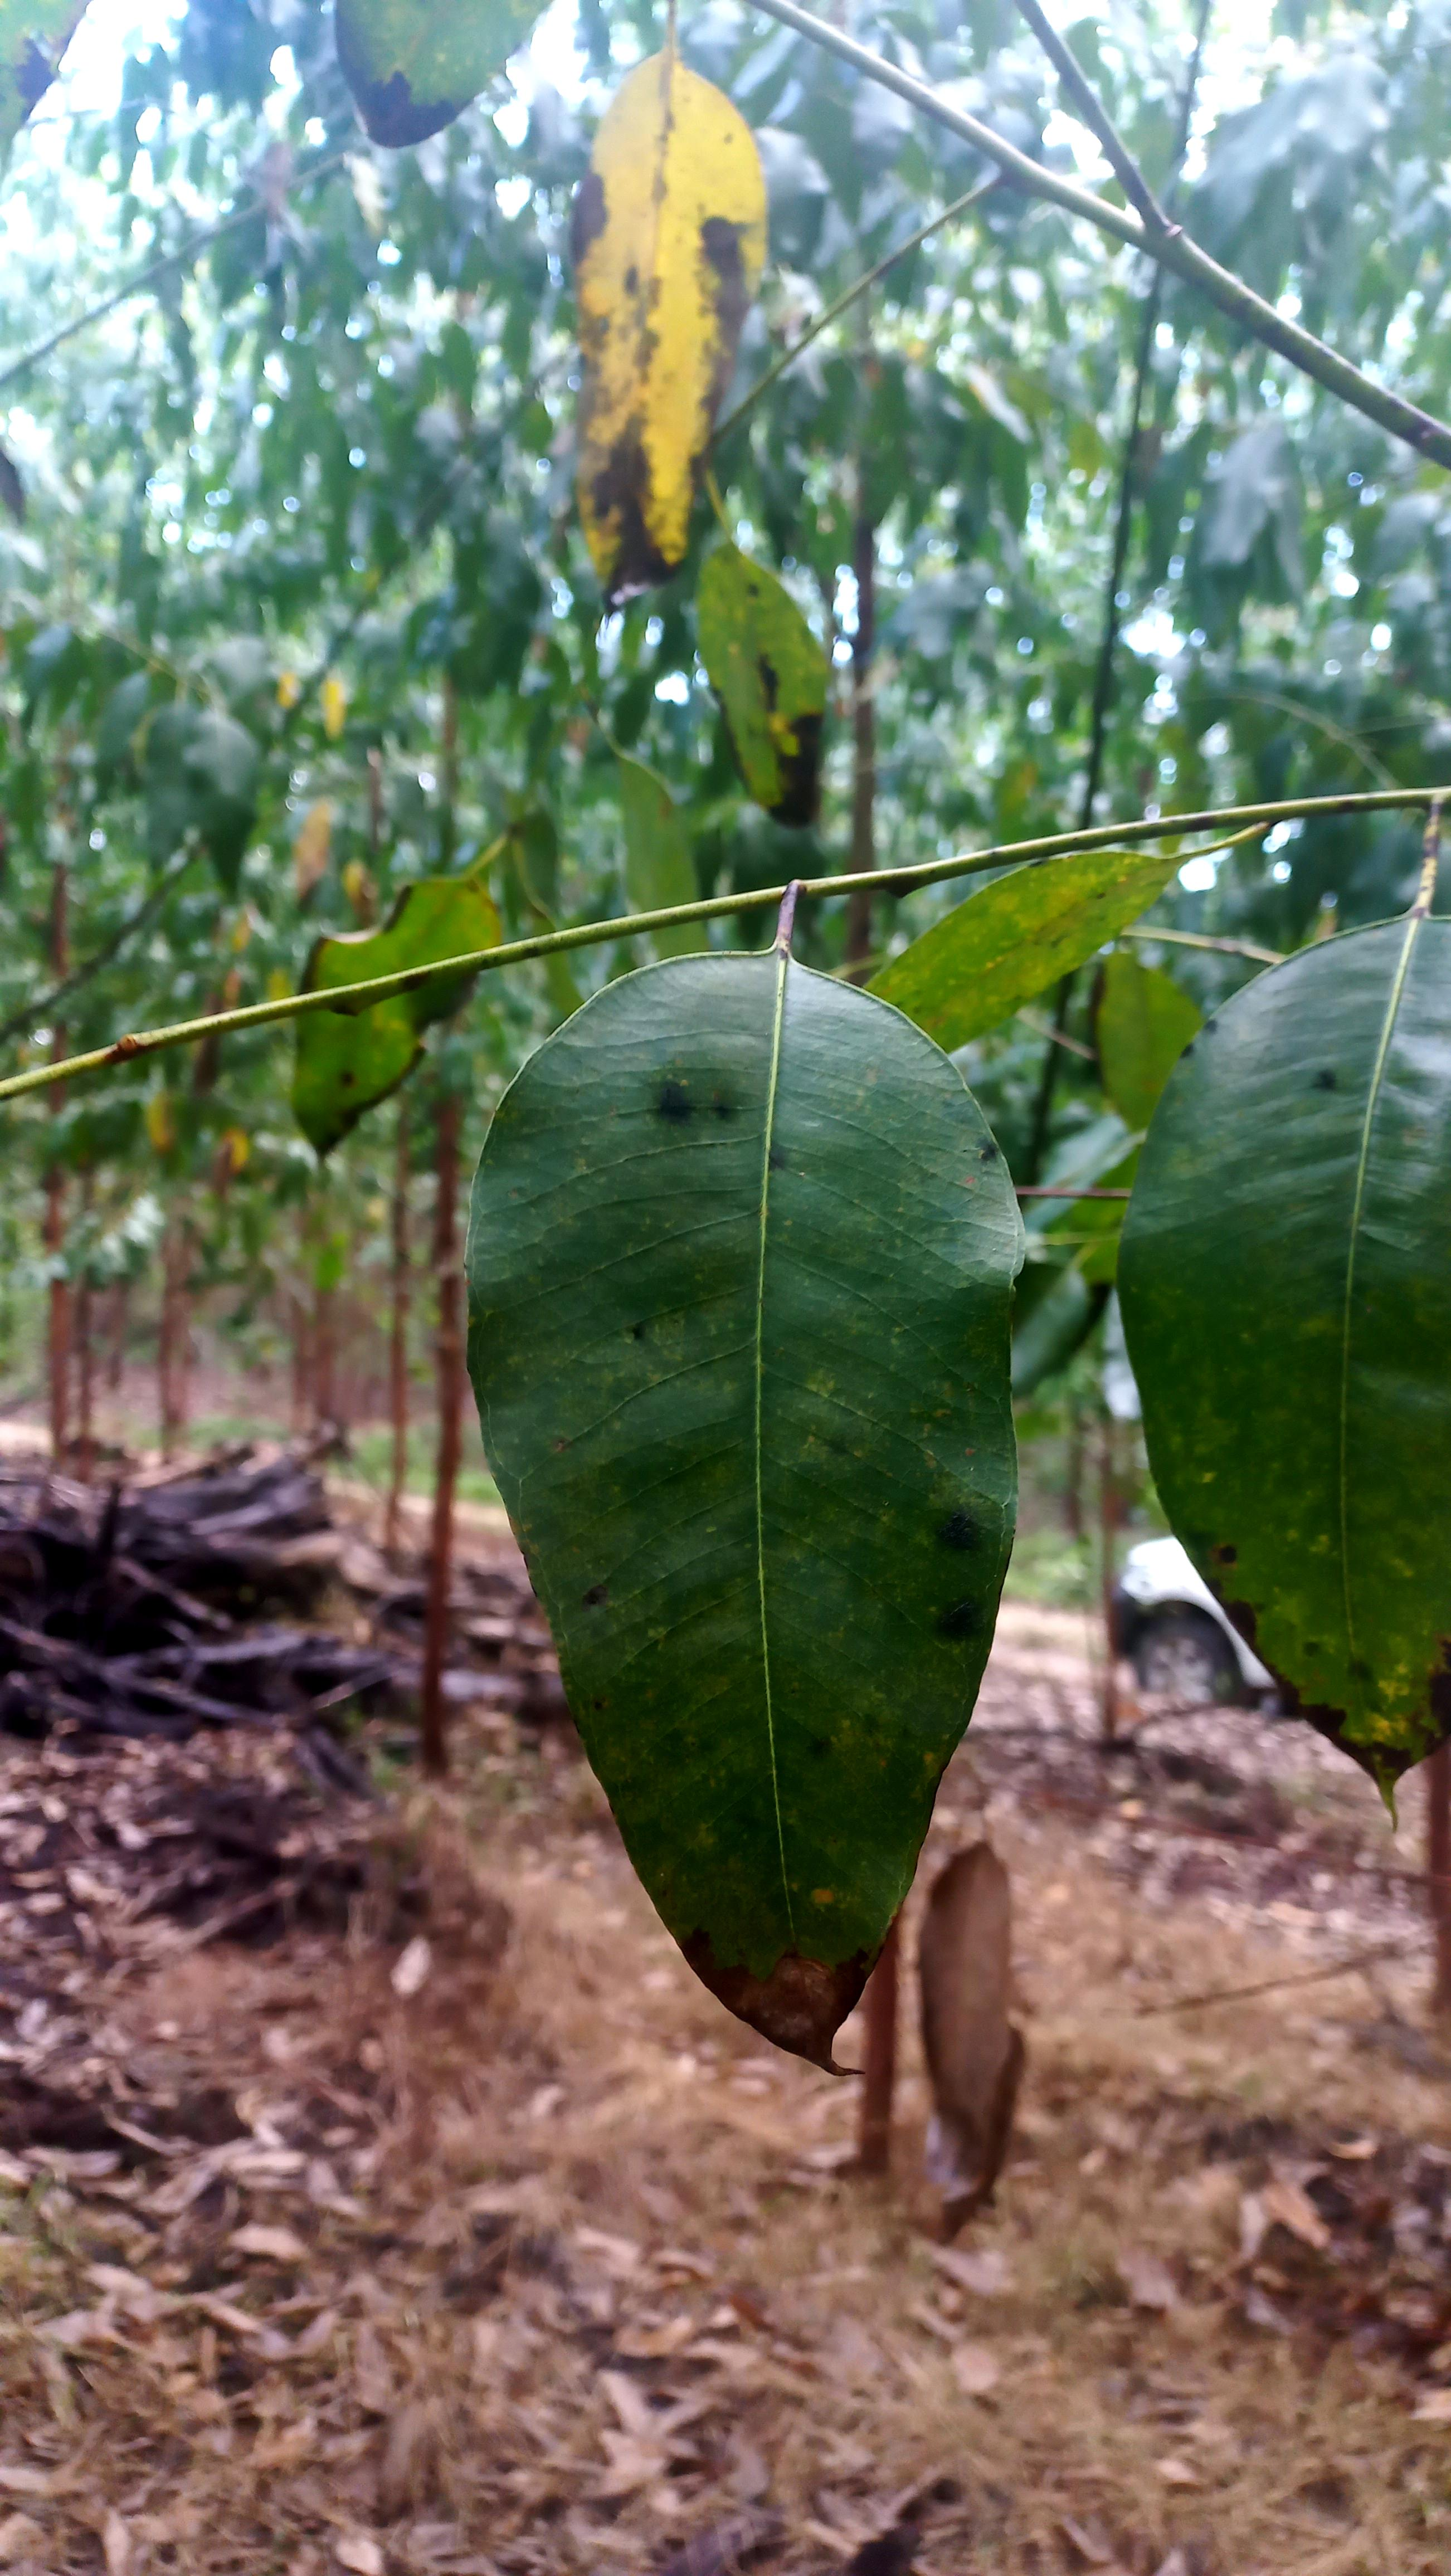Cylindrocladium: (575, 46, 756, 616), (290, 881, 506, 1169), (697, 1918, 897, 2081), (764, 686, 832, 832)
Embun Jelaga: (651, 1072, 818, 1171), (915, 1477, 991, 1665)
